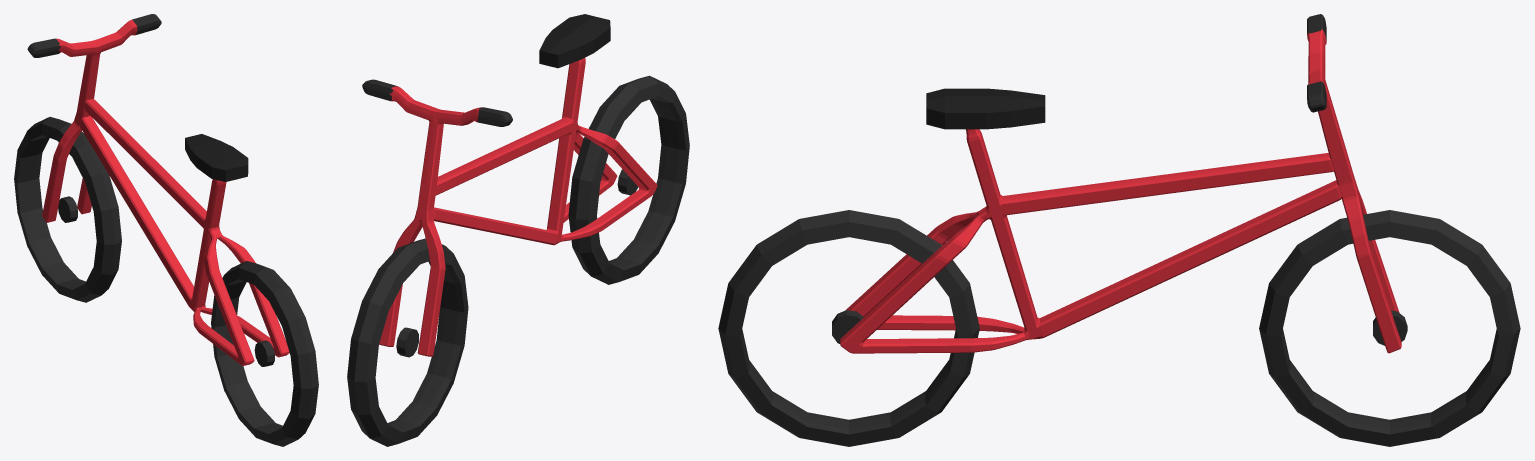
The model's file is quaternius_cc0-bicycle-697.glb.
3 views of the same model, side by side, from view 1: azimuth 30°, elevation 25°; view 2: azimuth 150°, elevation 25°; view 3: azimuth 270°, elevation 25° (orthographic). The views are drawn at different scales.
Visible parts, largest first — view 1: Frame, FrontWheel, BackWheel, Handle, Saddle; view 2: FrontWheel, BackWheel, Frame, Handle, Saddle; view 3: Frame, FrontWheel, BackWheel, Handle, Saddle.
Boxes of the visible parts, x1,y1,x2,y2 form: Frame: (79, 98, 289, 365); FrontWheel: (14, 117, 121, 302); BackWheel: (211, 261, 318, 446); Handle: (27, 14, 161, 222); Saddle: (185, 134, 248, 181); FrontWheel: (347, 238, 468, 446); BackWheel: (568, 75, 689, 284); Frame: (434, 58, 657, 245); Handle: (362, 79, 512, 356); Saddle: (539, 14, 610, 68); Frame: (840, 129, 1341, 353); FrontWheel: (1259, 210, 1520, 446); BackWheel: (718, 210, 979, 446); Handle: (1307, 14, 1401, 353); Saddle: (926, 88, 1045, 129).
Size of the model in its own units: 1.49 by 3.15 by 5.83.
